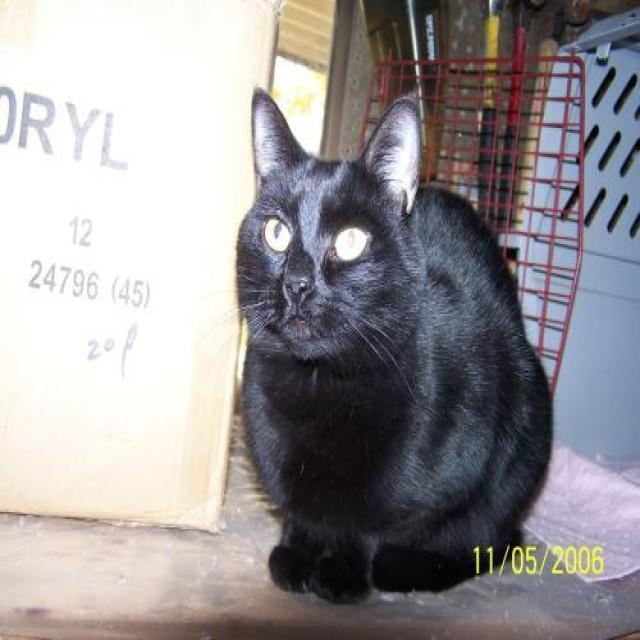cat: (232, 84, 554, 604)
